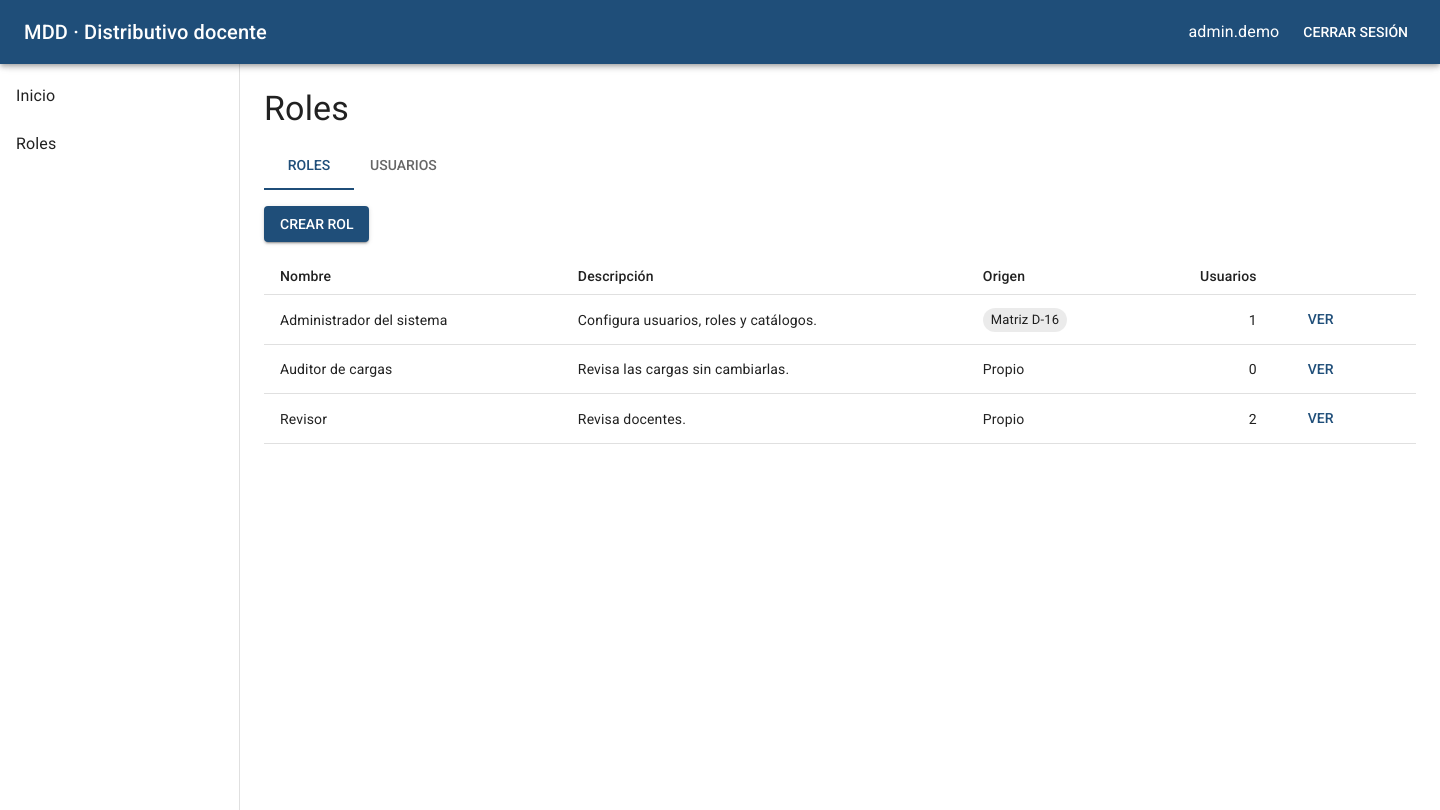
Roles › con el administrador › muestra el 409 y el 400 del servidor con su título y su detalle, sin el código
Click the button "Crear rol" at (317, 224), box left=264, top=206, right=370, bottom=242
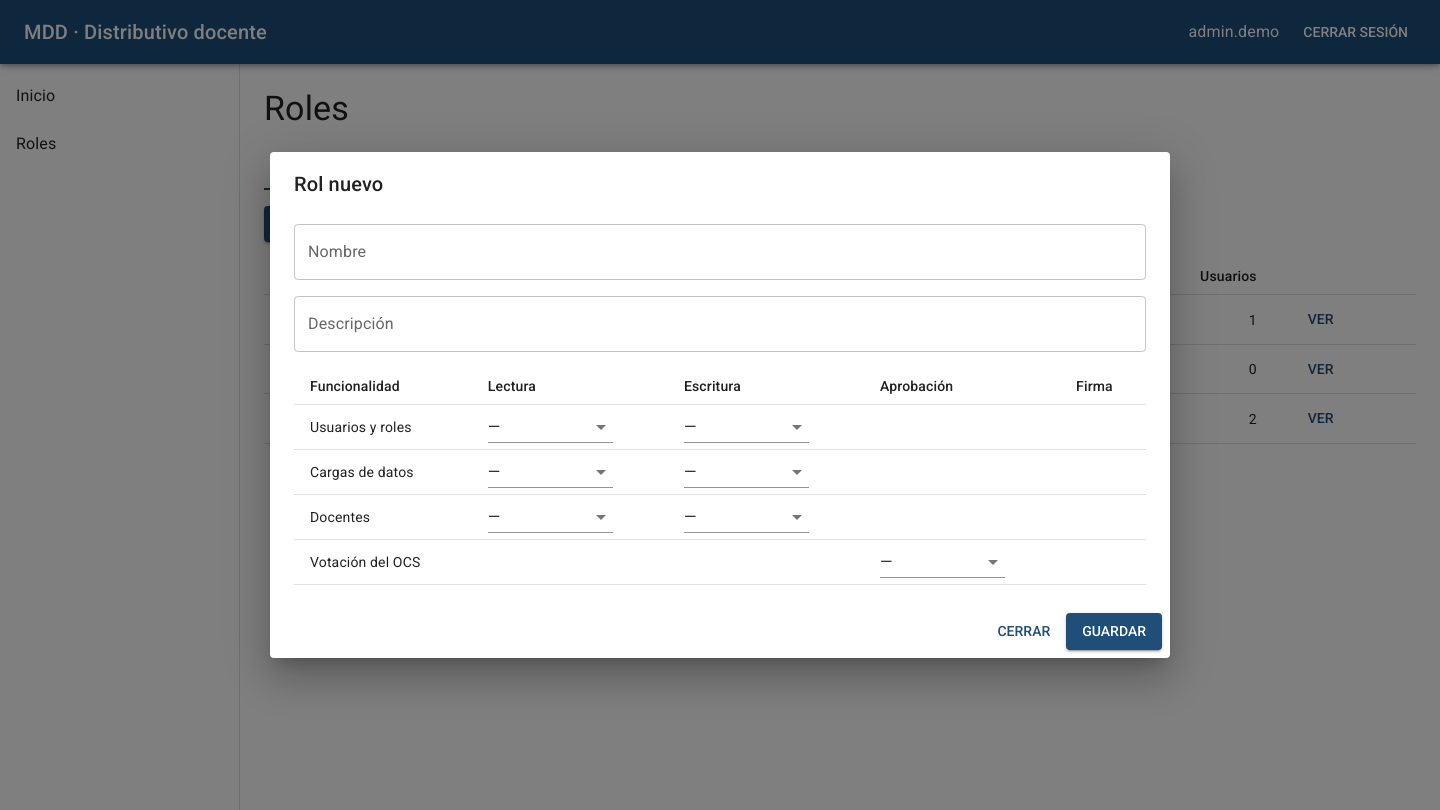
Type "Administrador" into the field labelled "Nombre" at (720, 252), box left=294, top=224, right=1146, bottom=280
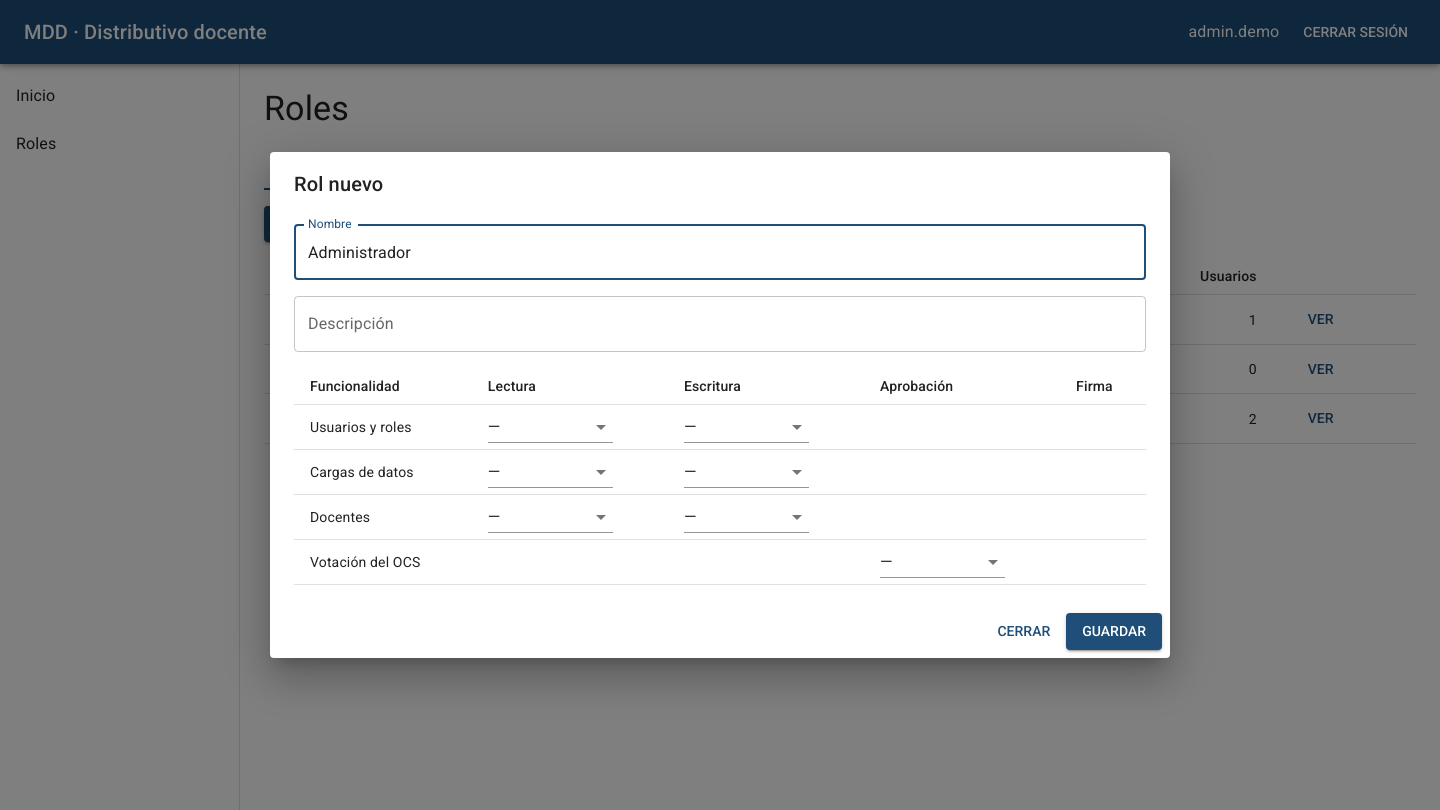
Type "Otro." into the text box labelled "Descripción" at (720, 324), box left=308, top=313, right=1132, bottom=336
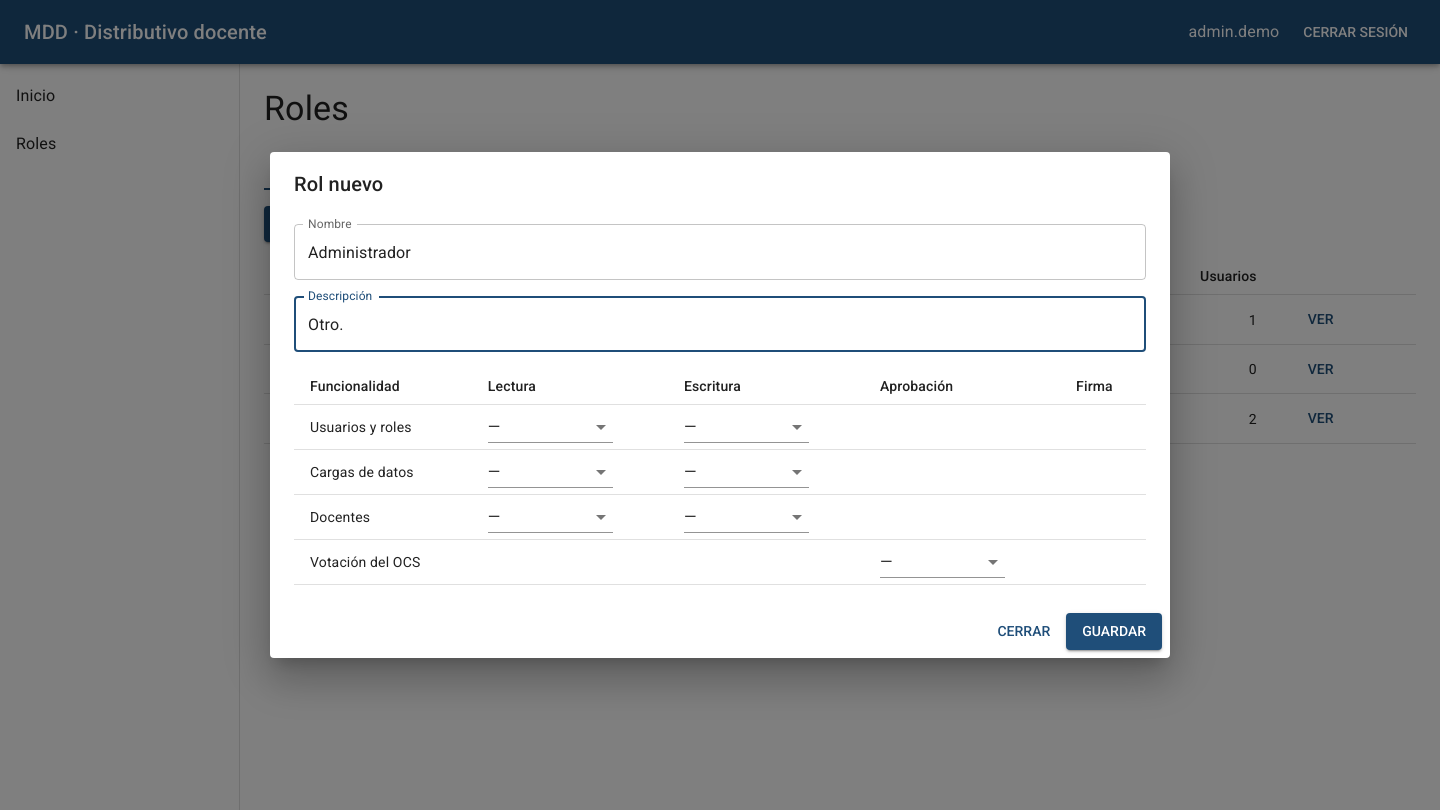
Select "Todo" in the dropdown named "Cargas de datos: lectura" at (550, 472), box left=488, top=456, right=613, bottom=488
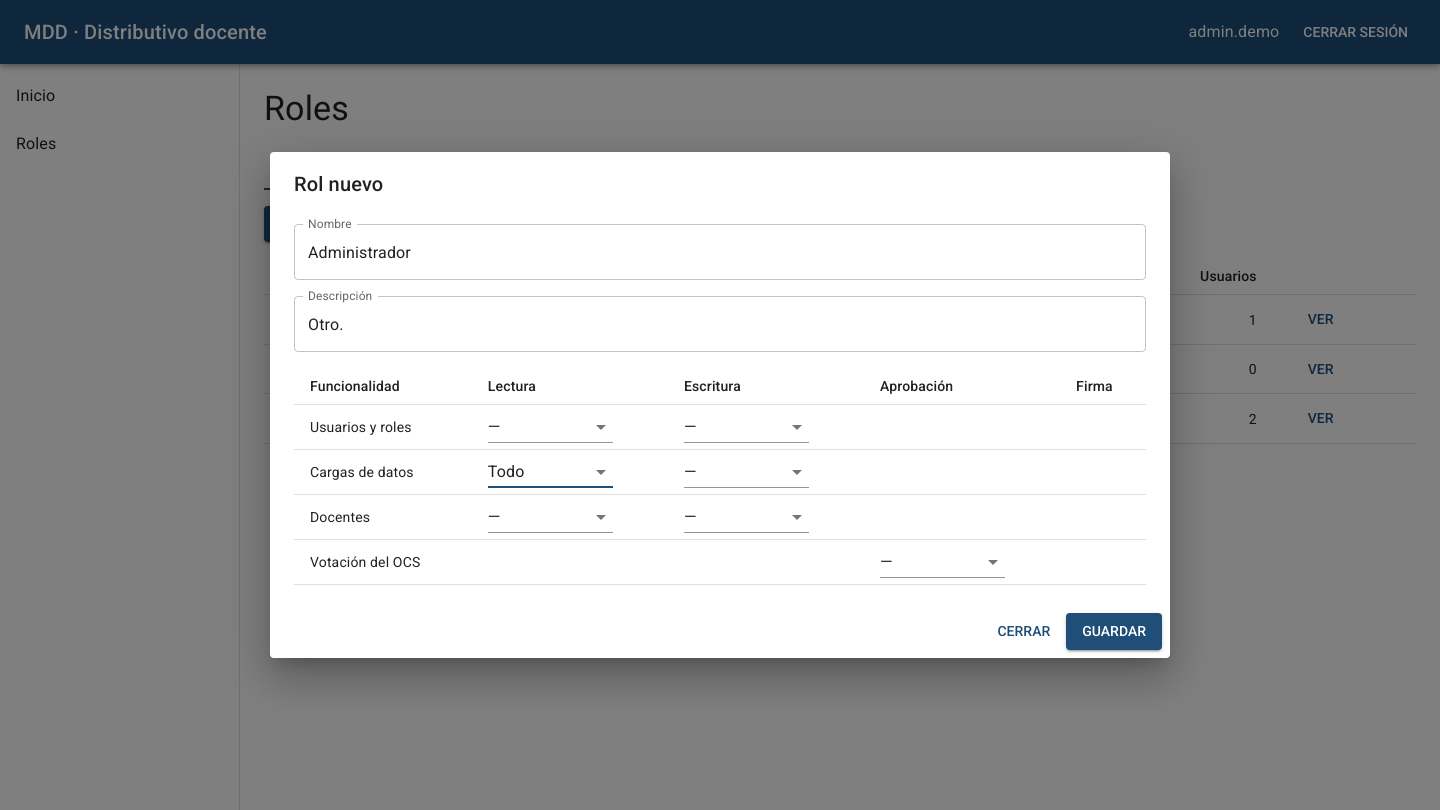
Click the button "Guardar" at (1114, 632), box left=1066, top=613, right=1162, bottom=650
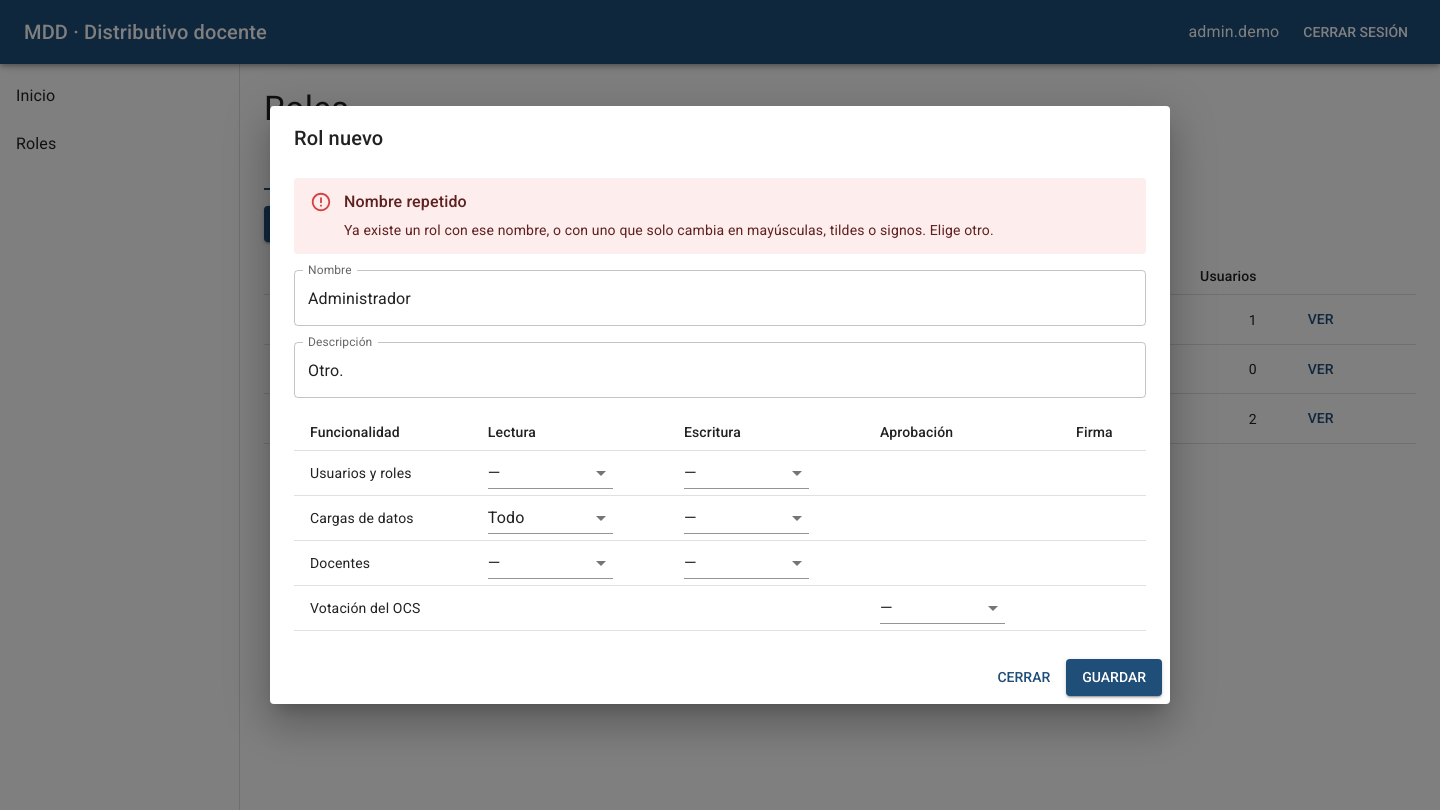
Result: the message shows "Nombre repetido" at left=344, top=192, right=467, bottom=211
Click the button "Guardar" at (1114, 677), box left=1066, top=659, right=1162, bottom=696
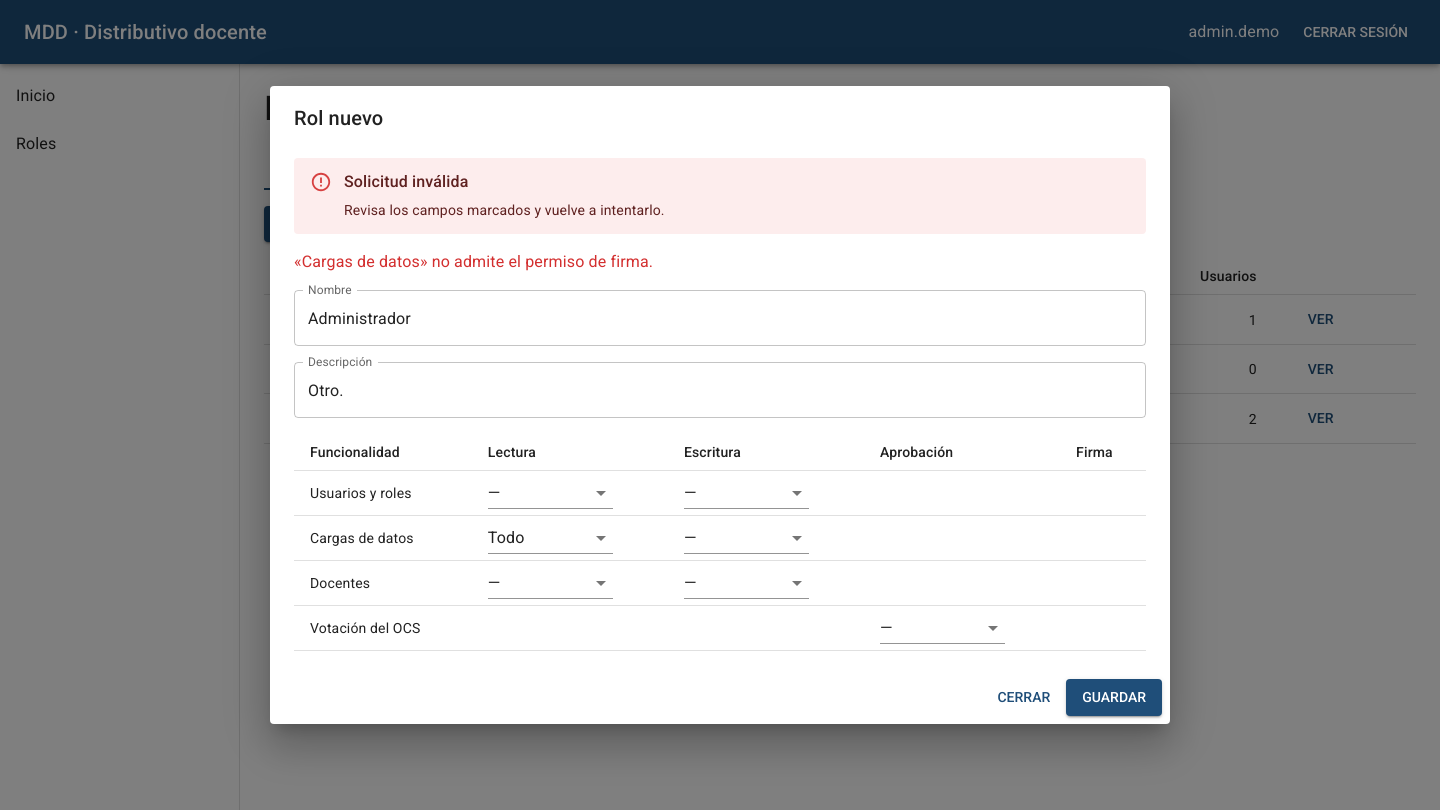
Result: the text "«Cargas de datos» no admite el permiso de firma." is shown at left=294, top=252, right=653, bottom=271
